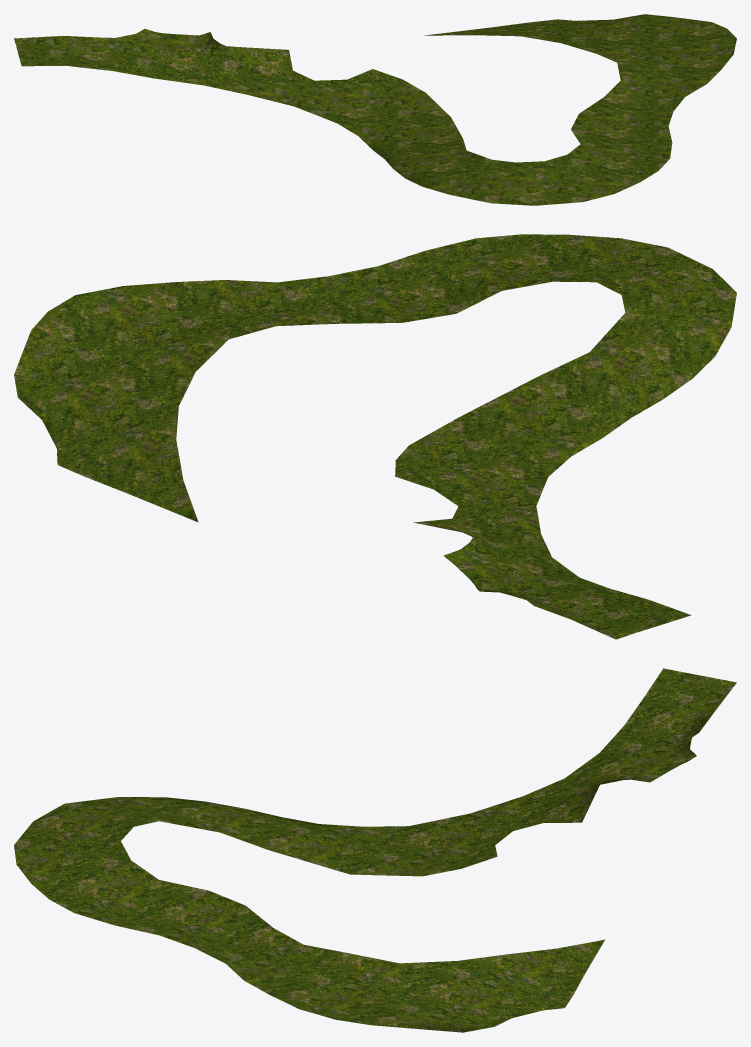
Rendered from OVERHILL_A_01_OH_B_OBJECT45.fbx.
The picture shows the model from 3 angles, top to bottom: view 1: azimuth 30°, elevation 25°; view 2: azimuth 150°, elevation 25°; view 3: azimuth 270°, elevation 25°; orthographic projection. The views are drawn at different scales.
Parts seen in each view (by area): view 1: OVERHILL_A_01_OH_B_OBJECT45; view 2: OVERHILL_A_01_OH_B_OBJECT45; view 3: OVERHILL_A_01_OH_B_OBJECT45.
Boxes of the visible parts, x1=… form: OVERHILL_A_01_OH_B_OBJECT45: x1=14, y1=14, x2=736, y2=205; OVERHILL_A_01_OH_B_OBJECT45: x1=14, y1=234, x2=736, y2=639; OVERHILL_A_01_OH_B_OBJECT45: x1=14, y1=668, x2=736, y2=1032.
Size of the model in its own units: 197801 by 14127 by 178194.
1 material, 1 textured.
